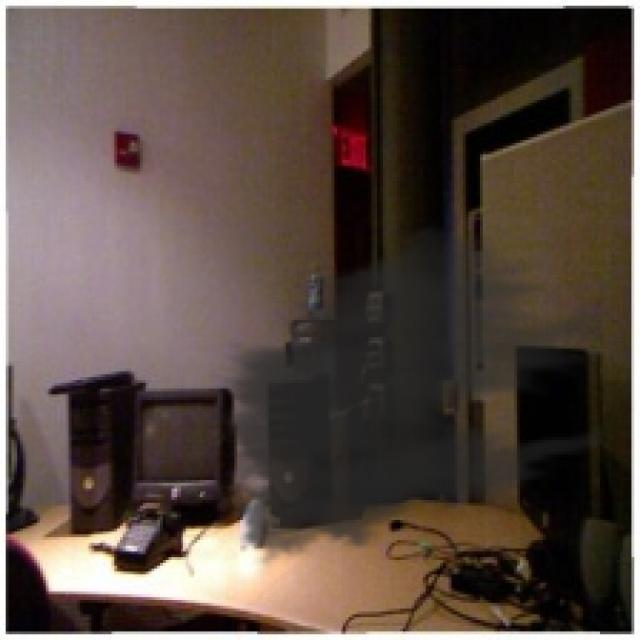Smoke: (203, 215, 603, 574)
